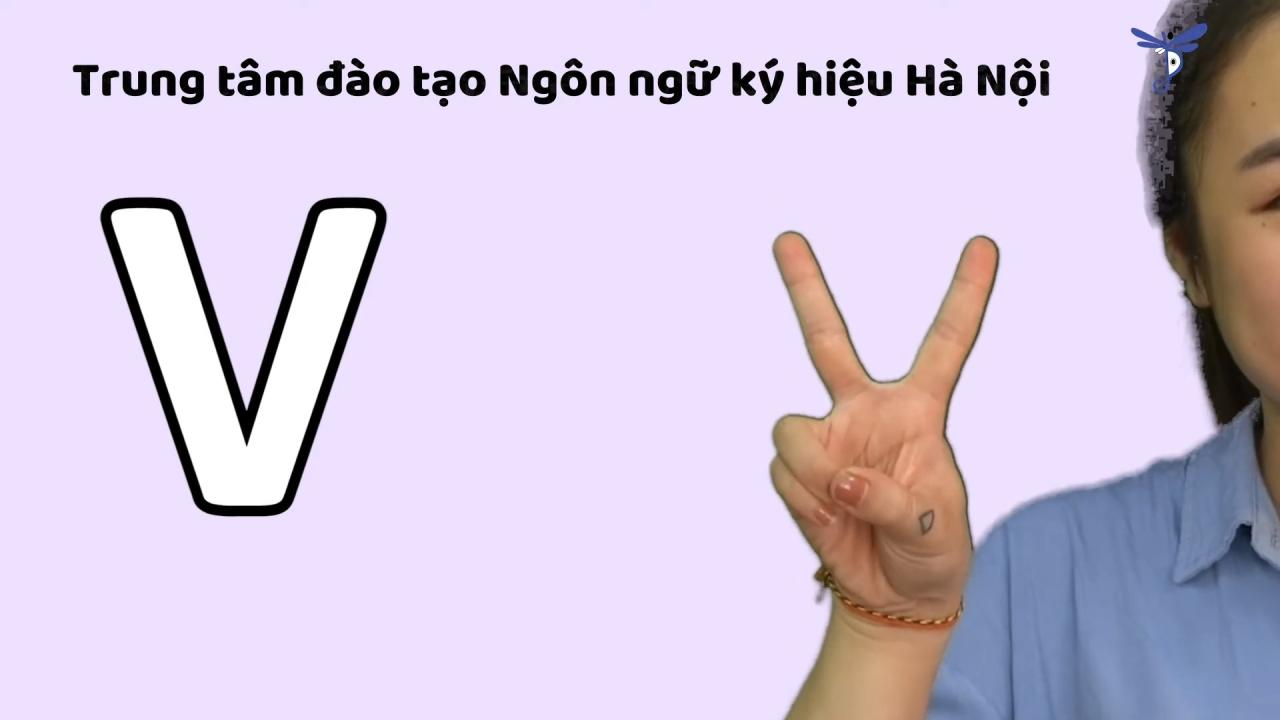V: (747, 224, 1006, 629)
